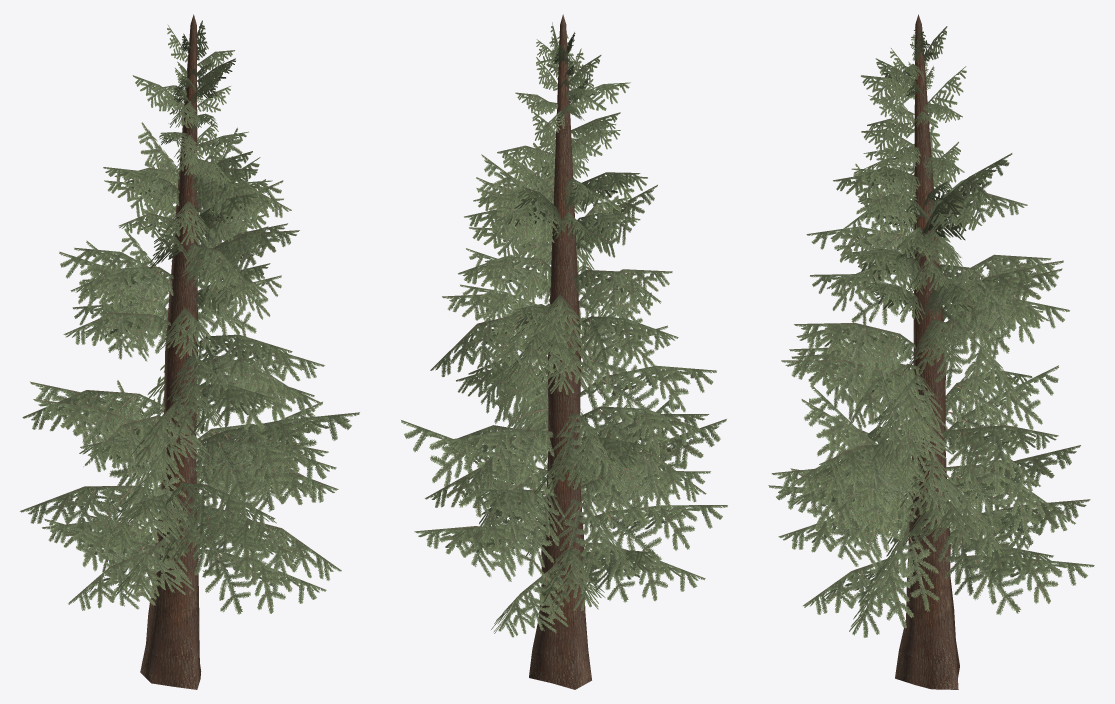
Rendered from Sequoia_Sempervirens_Autumn_Young.glb.
The picture shows the model from 3 angles, left to right: view 1: azimuth 30°, elevation 25°; view 2: azimuth 150°, elevation 25°; view 3: azimuth 270°, elevation 25°; orthographic projection. The views are drawn at different scales.
Visible parts, largest first — view 1: Sequoia_Sempervirens_Autumn_Young__LOD3; view 2: Sequoia_Sempervirens_Autumn_Young__LOD3; view 3: Sequoia_Sempervirens_Autumn_Young__LOD3.
Boxes of the visible parts, left/top/right/bottom form: Sequoia_Sempervirens_Autumn_Young__LOD3: left=20, top=14, right=359, bottom=689; Sequoia_Sempervirens_Autumn_Young__LOD3: left=401, top=14, right=727, bottom=689; Sequoia_Sempervirens_Autumn_Young__LOD3: left=768, top=14, right=1094, bottom=689.
Bounding box in the file's own units: 10.51 × 22.78 × 10.44.
Materials: 3 (3 with a texture image).
